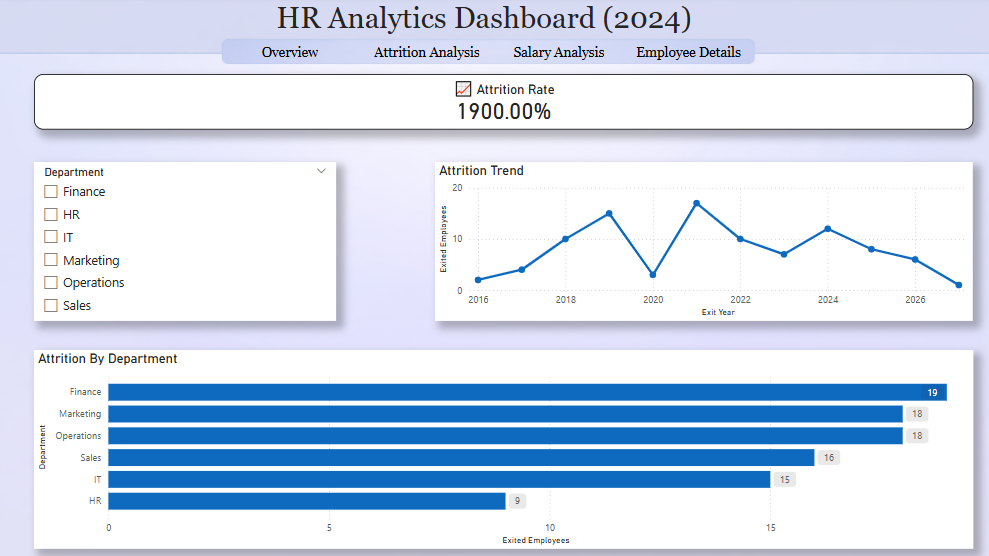

The page's visual inventory and layout, read from the dashboard file:
{"tool":"powerbi","page":{"name":"Attrition Analysis","canvas":[1280,720],"ordinal":1},"visuals":[{"type":"card","title":"📈 Attrition Rate","fields":{"Values":["Employees.Attrition Rate (%)"]},"box":[49.7,98.2,1199.7,71.4],"z":0},{"type":"textbox","box":[0,0,1249.4,53.5],"z":1000},{"type":"shape","box":[464.1,53.5,175.9,34.4],"z":2000},{"type":"shape","box":[288.1,53.5,175.9,34.4],"z":3000},{"type":"shape","box":[800.6,53.5,169.6,34.4],"z":4000},{"type":"shape","box":[640,53.5,160.6,34.4],"z":5000},{"type":"slicer","fields":{"Values":["Employees.Department"]},"box":[49.7,210.4,386.3,202.7],"z":6000},{"type":"lineChart","title":"Attrition Trend","fields":{"Category":["Employees.Exit Year"],"Y":["Employees.Exited Employees"]},"box":[562.2,210.4,687.2,202.7],"z":7000},{"type":"barChart","title":"Attrition By Department","fields":{"Y":["Employees.Exited Employees"],"Category":["Employees.Department"]},"box":[49.7,451.3,1199.7,253.7],"z":8000}]}

Visuals, with their boxes in screenshot pixels (x1, y1, x2, y2), scaled from the page's 1280x720 canvas onto the 989x556 screenshot:
"📈 Attrition Rate" card: 38:76:965:131
textbox: 0:0:965:41
shape: 359:41:494:68
shape: 223:41:359:68
shape: 619:41:750:68
shape: 494:41:619:68
slicer - Employees.Department: 38:162:337:319
"Attrition Trend" lineChart: 434:162:965:319
"Attrition By Department" barChart: 38:349:965:544
